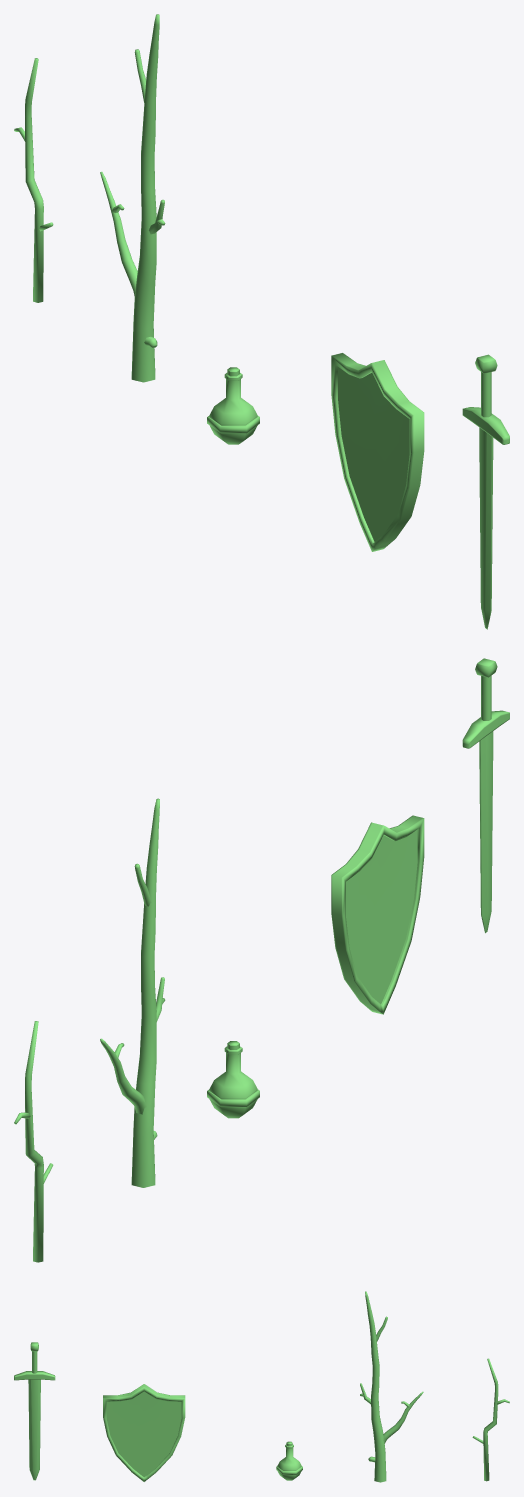
The model's file is props.fbx.
The picture shows the model from 3 angles, top to bottom: view 1: azimuth 30°, elevation 25°; view 2: azimuth 150°, elevation 25°; view 3: azimuth 270°, elevation 25°; orthographic projection. The views are drawn at different scales.
Parts seen in each view (by area): view 1: Cube, GP_Layer, Cube.001, GP_Layer.001, Sphere; view 2: Cube, GP_Layer, Cube.001, GP_Layer.001, Sphere; view 3: Cube, GP_Layer, Cube.001, GP_Layer.001, Sphere.
Boxes of the visible parts, bbox=[...] form: Cube: bbox=[331, 353, 424, 551]; GP_Layer: bbox=[100, 14, 165, 382]; Cube.001: bbox=[462, 354, 509, 629]; GP_Layer.001: bbox=[14, 58, 53, 302]; Sphere: bbox=[207, 367, 259, 444]; Cube: bbox=[331, 815, 424, 1014]; GP_Layer: bbox=[100, 798, 165, 1187]; Cube.001: bbox=[462, 658, 509, 933]; GP_Layer.001: bbox=[14, 1021, 53, 1262]; Sphere: bbox=[207, 1041, 259, 1118]; Cube: bbox=[103, 1384, 185, 1481]; GP_Layer: bbox=[360, 1291, 423, 1482]; Cube.001: bbox=[14, 1342, 55, 1480]; GP_Layer.001: bbox=[472, 1358, 509, 1481]; Sphere: bbox=[276, 1441, 302, 1480].
Bounding box in the file's own units: 19.37 × 175 × 416.
